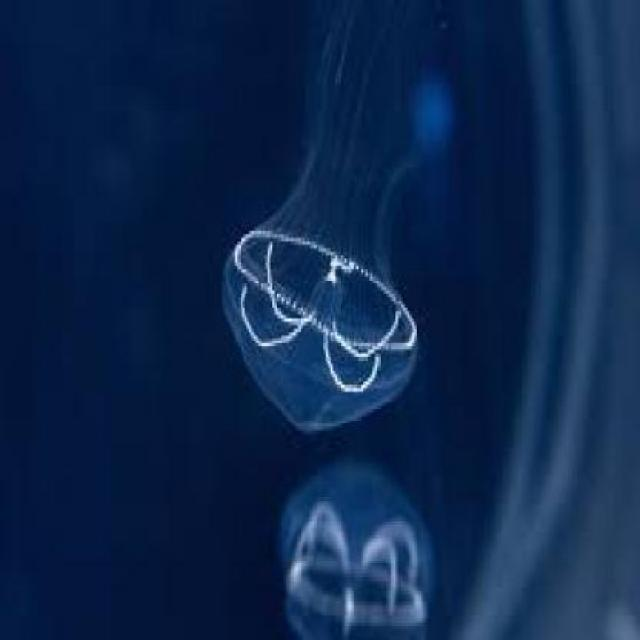Jellyfish: (217, 10, 426, 438)
